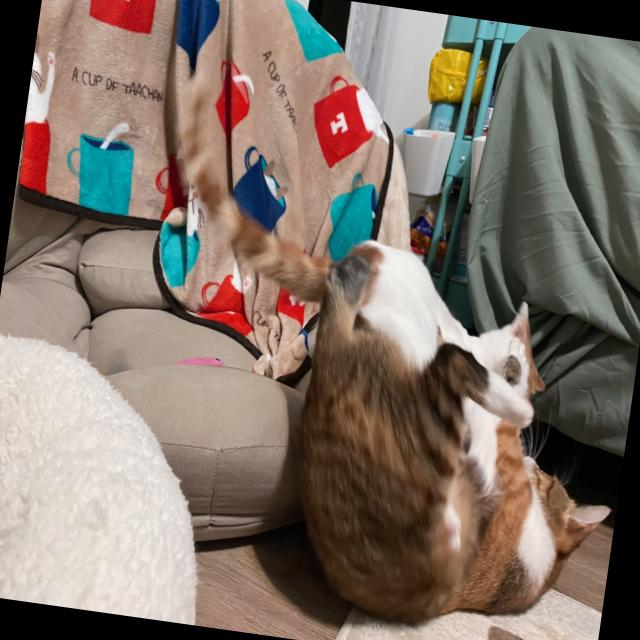cat1: (309, 218, 565, 415)
cat2: (269, 338, 630, 640)
